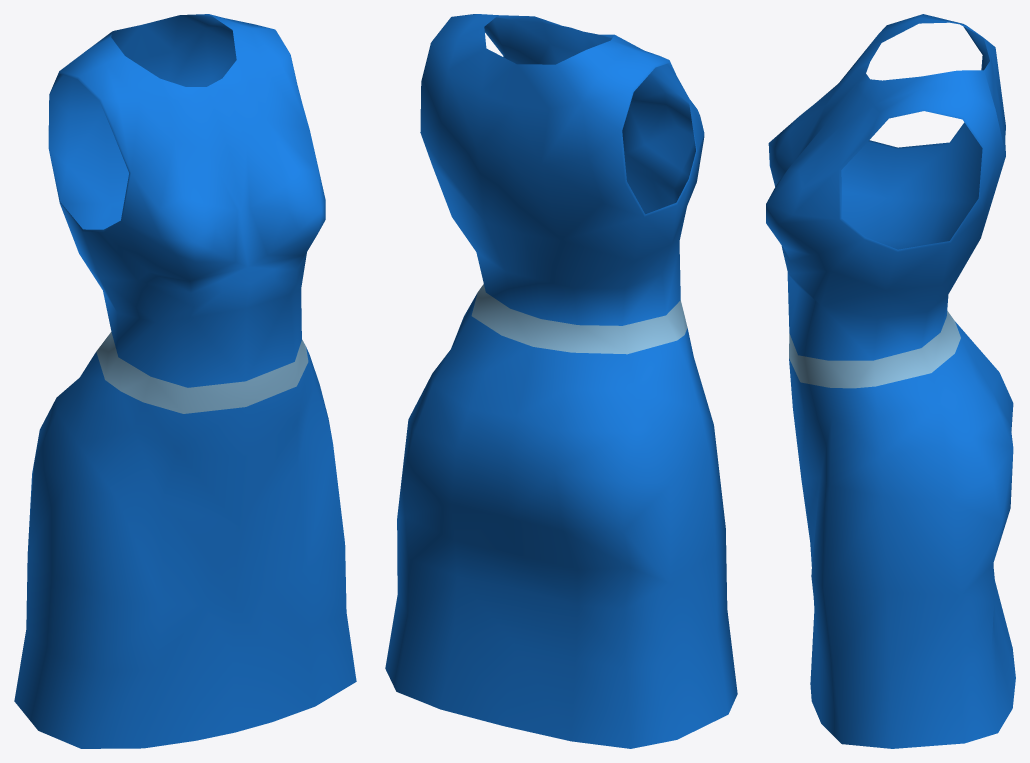
File: Dress_02.fbx
3 renders of one model, left to right at view 1: azimuth 30°, elevation 25°; view 2: azimuth 150°, elevation 25°; view 3: azimuth 270°, elevation 25°, orthographic. The views are drawn at different scales.
Visible parts, largest first — view 1: Dress_02; view 2: Dress_02; view 3: Dress_02.
Part boxes in pixels (x1,y1,x2,y2): Dress_02: [14, 14, 356, 748]; Dress_02: [385, 14, 737, 748]; Dress_02: [766, 14, 1015, 748].
Bounding box in the file's own units: 41.75 × 84.13 × 29.88.
